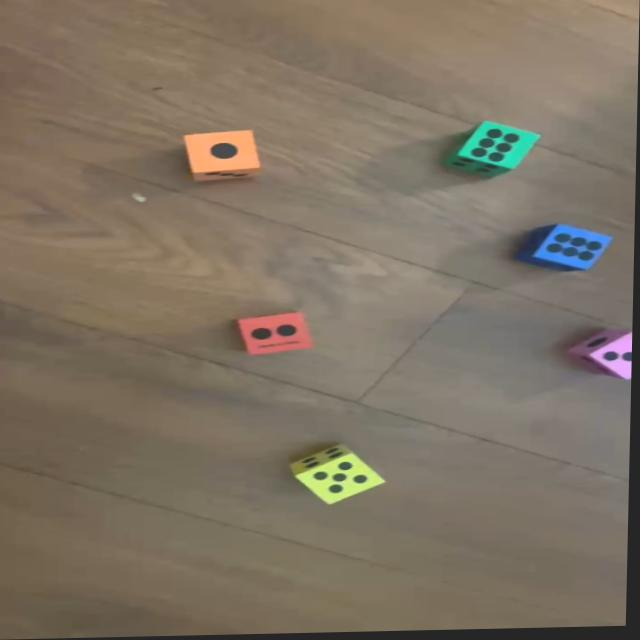blue_block: (509, 225, 613, 277)
red_block: (238, 311, 314, 358)
